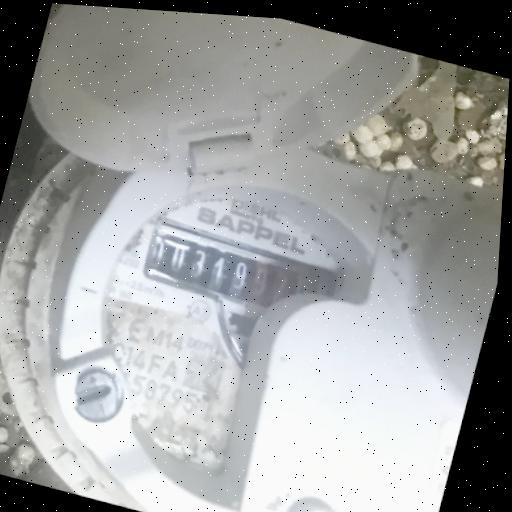0: (161, 235, 192, 281), (143, 229, 173, 274)
1: (204, 247, 234, 293)
3: (182, 241, 213, 286)
7: (261, 263, 300, 314)
9: (241, 258, 274, 307), (222, 253, 254, 300)
border_water_meter_number: (139, 220, 317, 319)
